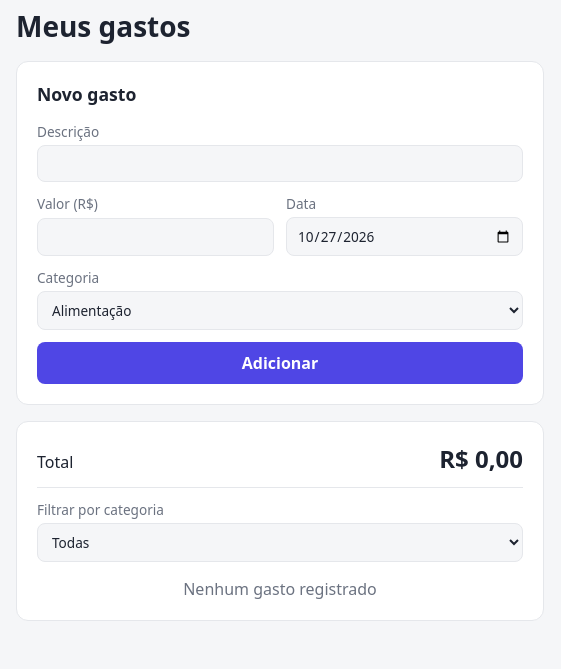
it: App › mostra erro com descrição vazia
Type "10" into the field labelled "Valor (R$)" at (156, 237), box top-left (37, 218), bottom-right (274, 256)
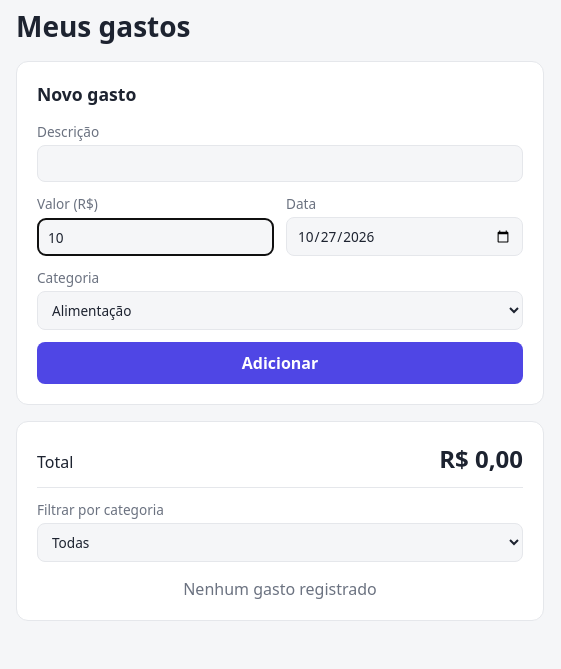
Click the button "Adicionar" at (280, 363), box top-left (37, 342), bottom-right (523, 384)
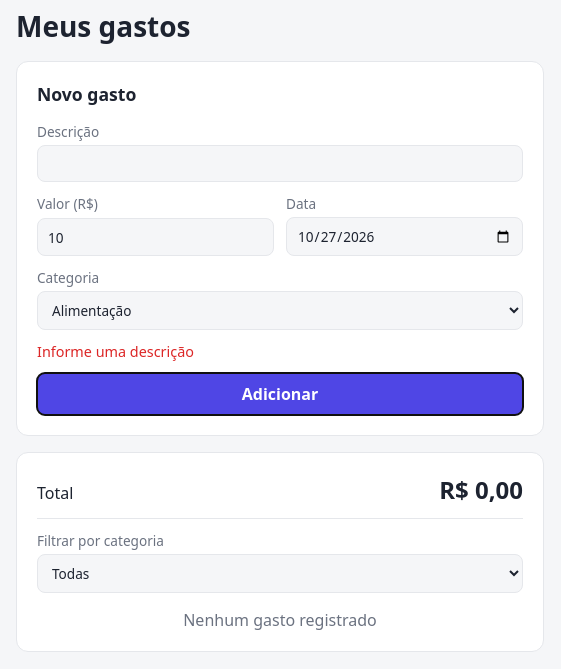
Check: the text "Nenhum gasto registrado" is shown, box top-left (183, 609), bottom-right (377, 631)
Check: the message reads "Informe uma descrição", box top-left (37, 342), bottom-right (194, 361)
